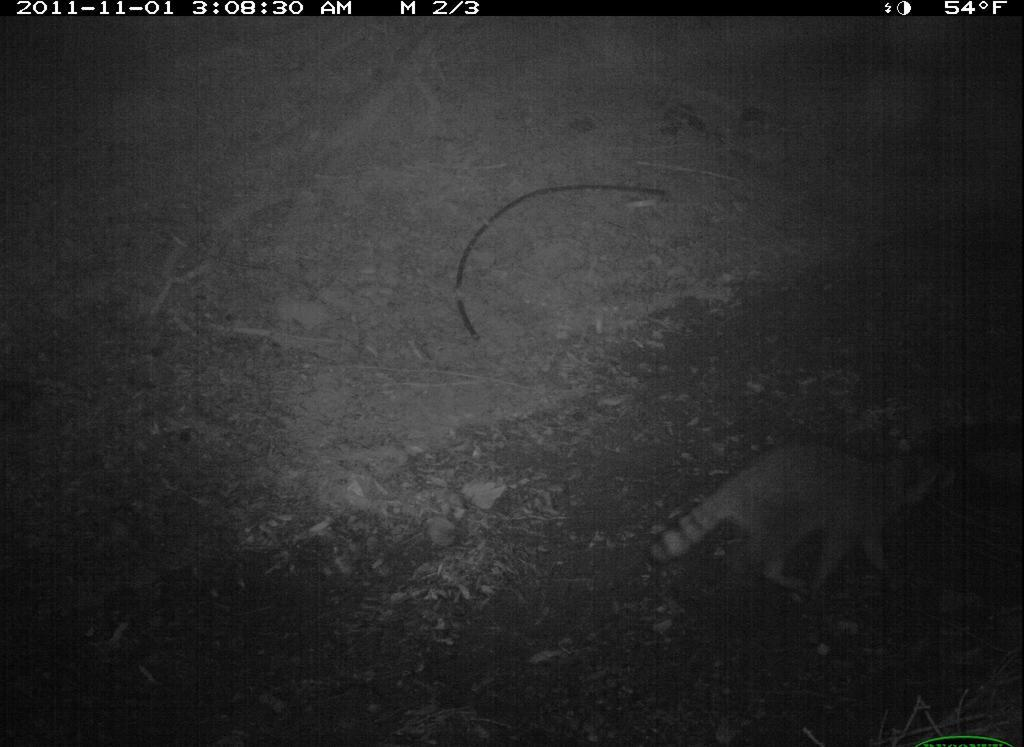raccoon: (638, 432, 975, 600)
